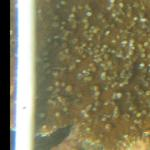alive: (35, 1, 141, 143)
